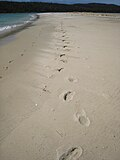human_footprint: (57, 146, 82, 159), (74, 109, 89, 126), (59, 90, 74, 101), (57, 64, 65, 72), (59, 50, 66, 59), (62, 43, 69, 48)
